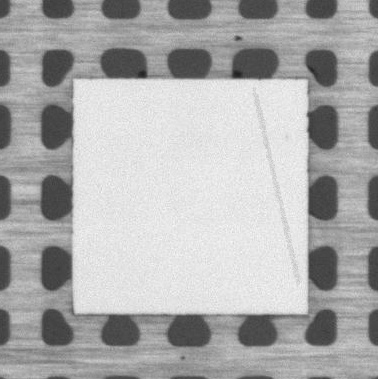DIE_CRACK: (253, 89, 298, 285)
